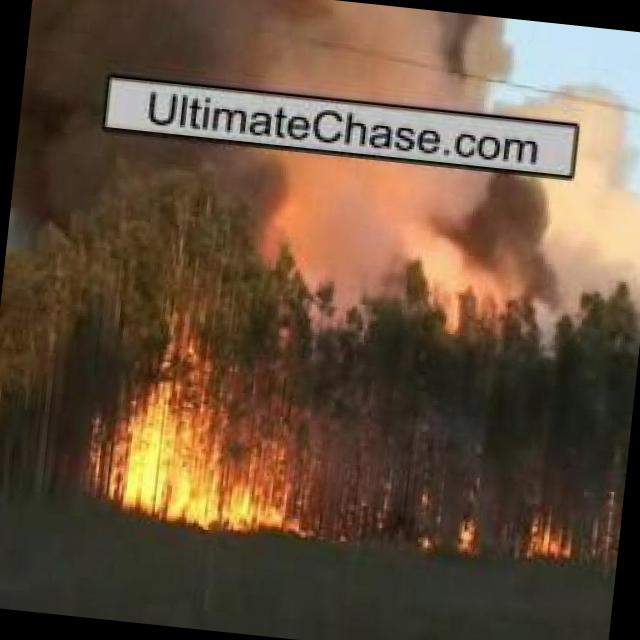Fire: (112, 390, 310, 538), (526, 505, 578, 563), (453, 508, 480, 554)
Smoke: (0, 0, 640, 396)
